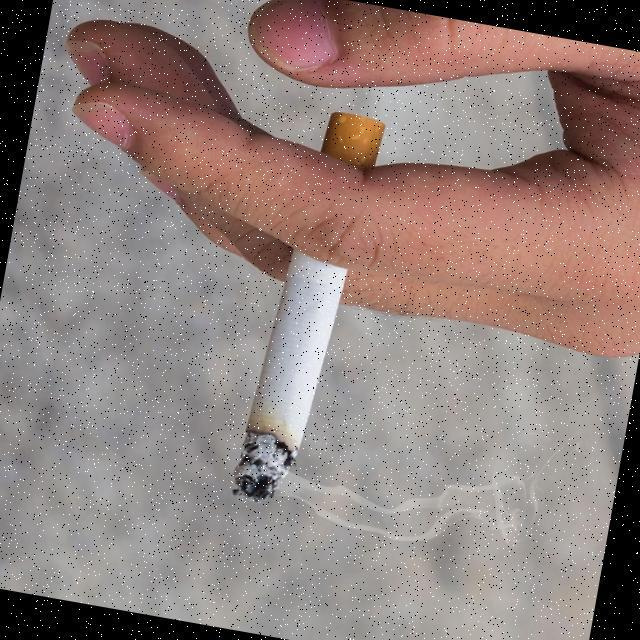cigarette: (220, 233, 352, 518)
